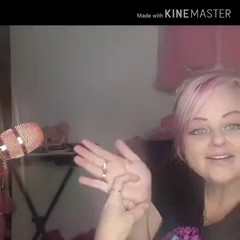R: (71, 134, 160, 240)
